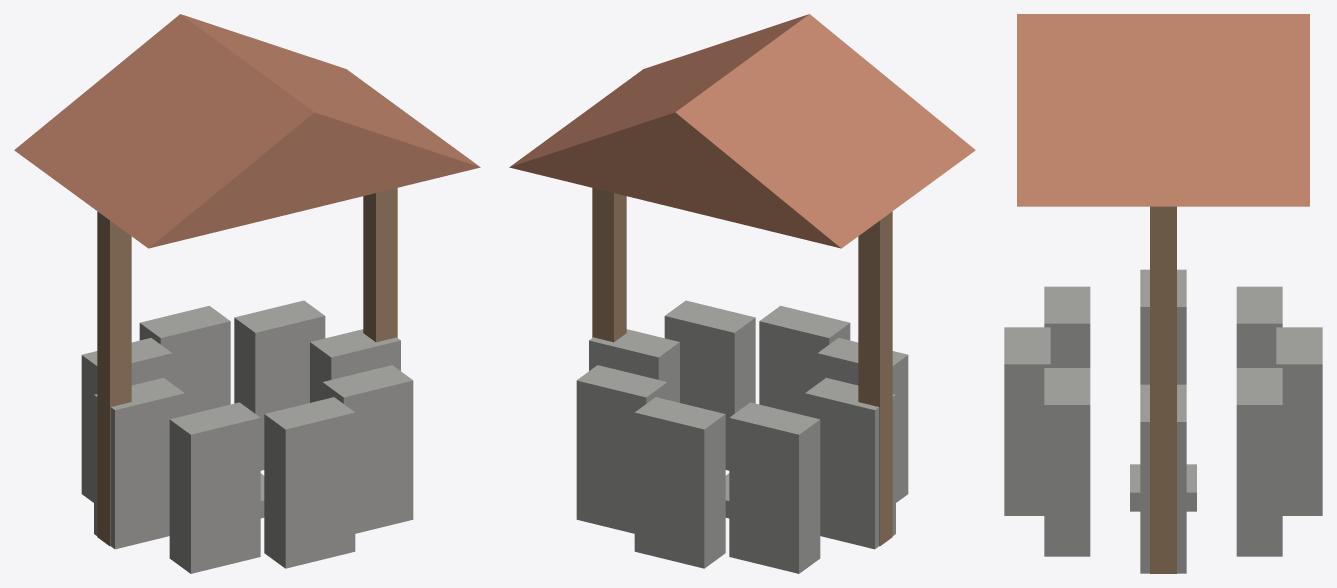
File: well.glb
3 renders of one model, left to right at view 1: azimuth 30°, elevation 25°; view 2: azimuth 150°, elevation 25°; view 3: azimuth 270°, elevation 25°, orthographic. The views are drawn at different scales.
Visible parts, largest first — view 1: part_11, part_6, part_7, part_5, part_8, part_2, part_9, part_3, part_10, part_4, part_1; view 2: part_11, part_4, part_3, part_5, part_2, part_8, part_9, part_7, part_10, part_6, part_1; view 3: part_11, part_10, part_2, part_8, part_3, part_7, part_1, part_4, part_6, part_5, part_0.
Part boxes in pixels (left/top/right/bottom): part_11: left=14, top=14, right=480, bottom=248; part_6: left=169, top=402, right=260, bottom=573; part_7: left=264, top=397, right=355, bottom=568; part_5: left=94, top=377, right=184, bottom=549; part_8: left=322, top=365, right=413, bottom=533; part_2: left=234, top=300, right=325, bottom=470; part_9: left=97, top=211, right=131, bottom=546; part_3: left=139, top=305, right=230, bottom=415; part_10: left=363, top=188, right=397, bottom=342; part_4: left=81, top=338, right=172, bottom=502; part_1: left=310, top=329, right=400, bottom=402; part_11: left=509, top=14, right=975, bottom=248; part_4: left=729, top=402, right=820, bottom=573; part_3: left=634, top=397, right=725, bottom=568; part_5: left=805, top=377, right=895, bottom=549; part_2: left=576, top=365, right=667, bottom=533; part_8: left=664, top=300, right=755, bottom=470; part_9: left=858, top=211, right=892, bottom=546; part_7: left=759, top=305, right=850, bottom=415; part_10: left=592, top=188, right=626, bottom=342; part_6: left=817, top=338, right=908, bottom=502; part_1: left=589, top=329, right=679, bottom=402; part_11: left=1017, top=14, right=1309, bottom=206; part_10: left=1150, top=206, right=1176, bottom=573; part_2: left=1236, top=368, right=1282, bottom=556; part_8: left=1044, top=368, right=1090, bottom=556; part_3: left=1276, top=327, right=1322, bottom=515; part_7: left=1004, top=327, right=1050, bottom=515; part_1: left=1140, top=384, right=1186, bottom=573; part_4: left=1236, top=286, right=1282, bottom=367; part_6: left=1044, top=286, right=1090, bottom=367; part_5: left=1140, top=269, right=1186, bottom=384; part_0: left=1130, top=464, right=1196, bottom=511.
Size of the model in its own units: 2 by 2.55 by 1.52.
